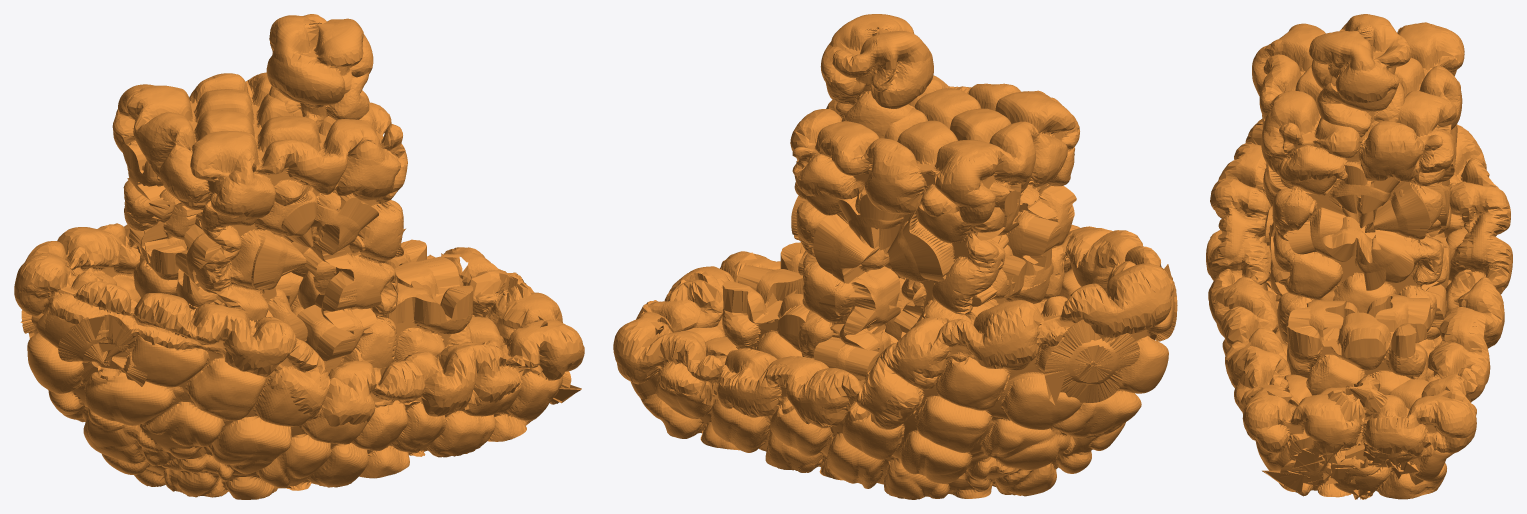
The model's file is cursed_benchy.glb.
The picture shows the model from 3 angles, left to right: view 1: azimuth 30°, elevation 25°; view 2: azimuth 150°, elevation 25°; view 3: azimuth 270°, elevation 25°; orthographic projection. The views are drawn at different scales.
Parts seen in each view (by area): view 1: cursed_benchy.stl; view 2: cursed_benchy.stl; view 3: cursed_benchy.stl.
Part boxes in pixels (x1=…): cursed_benchy.stl: x1=14, y1=14, x2=584, y2=499; cursed_benchy.stl: x1=613, y1=14, x2=1177, y2=499; cursed_benchy.stl: x1=1206, y1=14, x2=1512, y2=499.
Size of the model in its own units: 0.0654 by 0.0509 by 0.0365.
